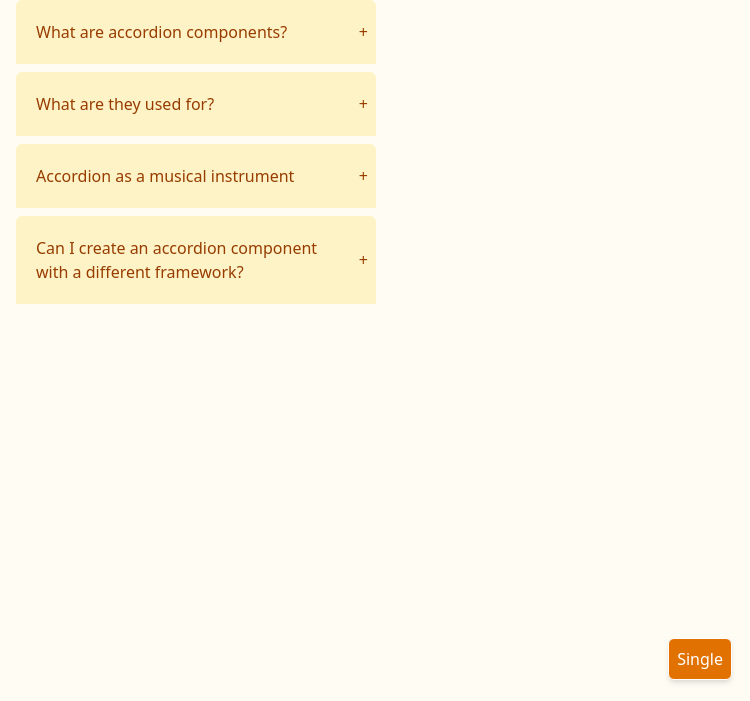
Accordion Component › opens an answer when the question is clicked
Click the heading "What are accordion components?" at point(162, 32), box [36, 21, 287, 43]
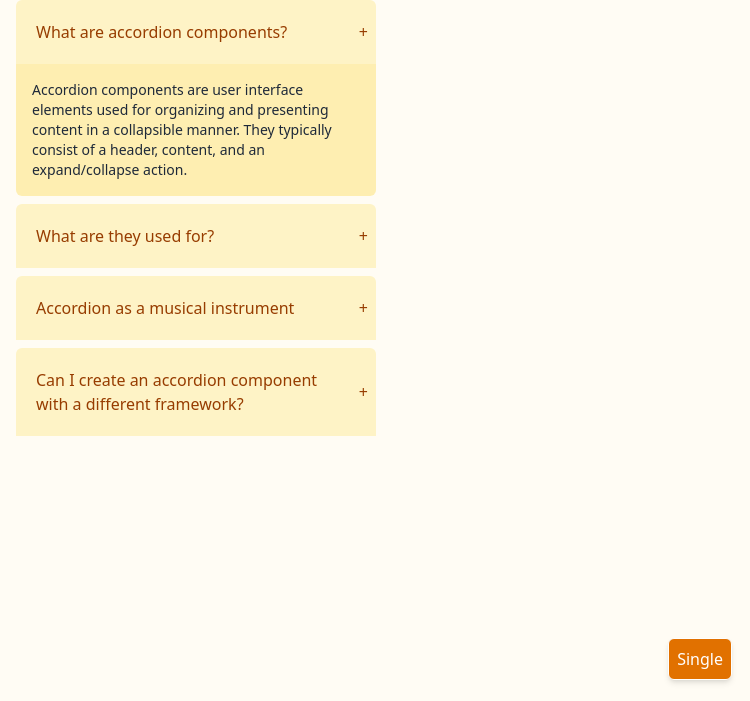
Expected: the text "Accordion components are user interface elements" is shown, [32, 80, 332, 179]
